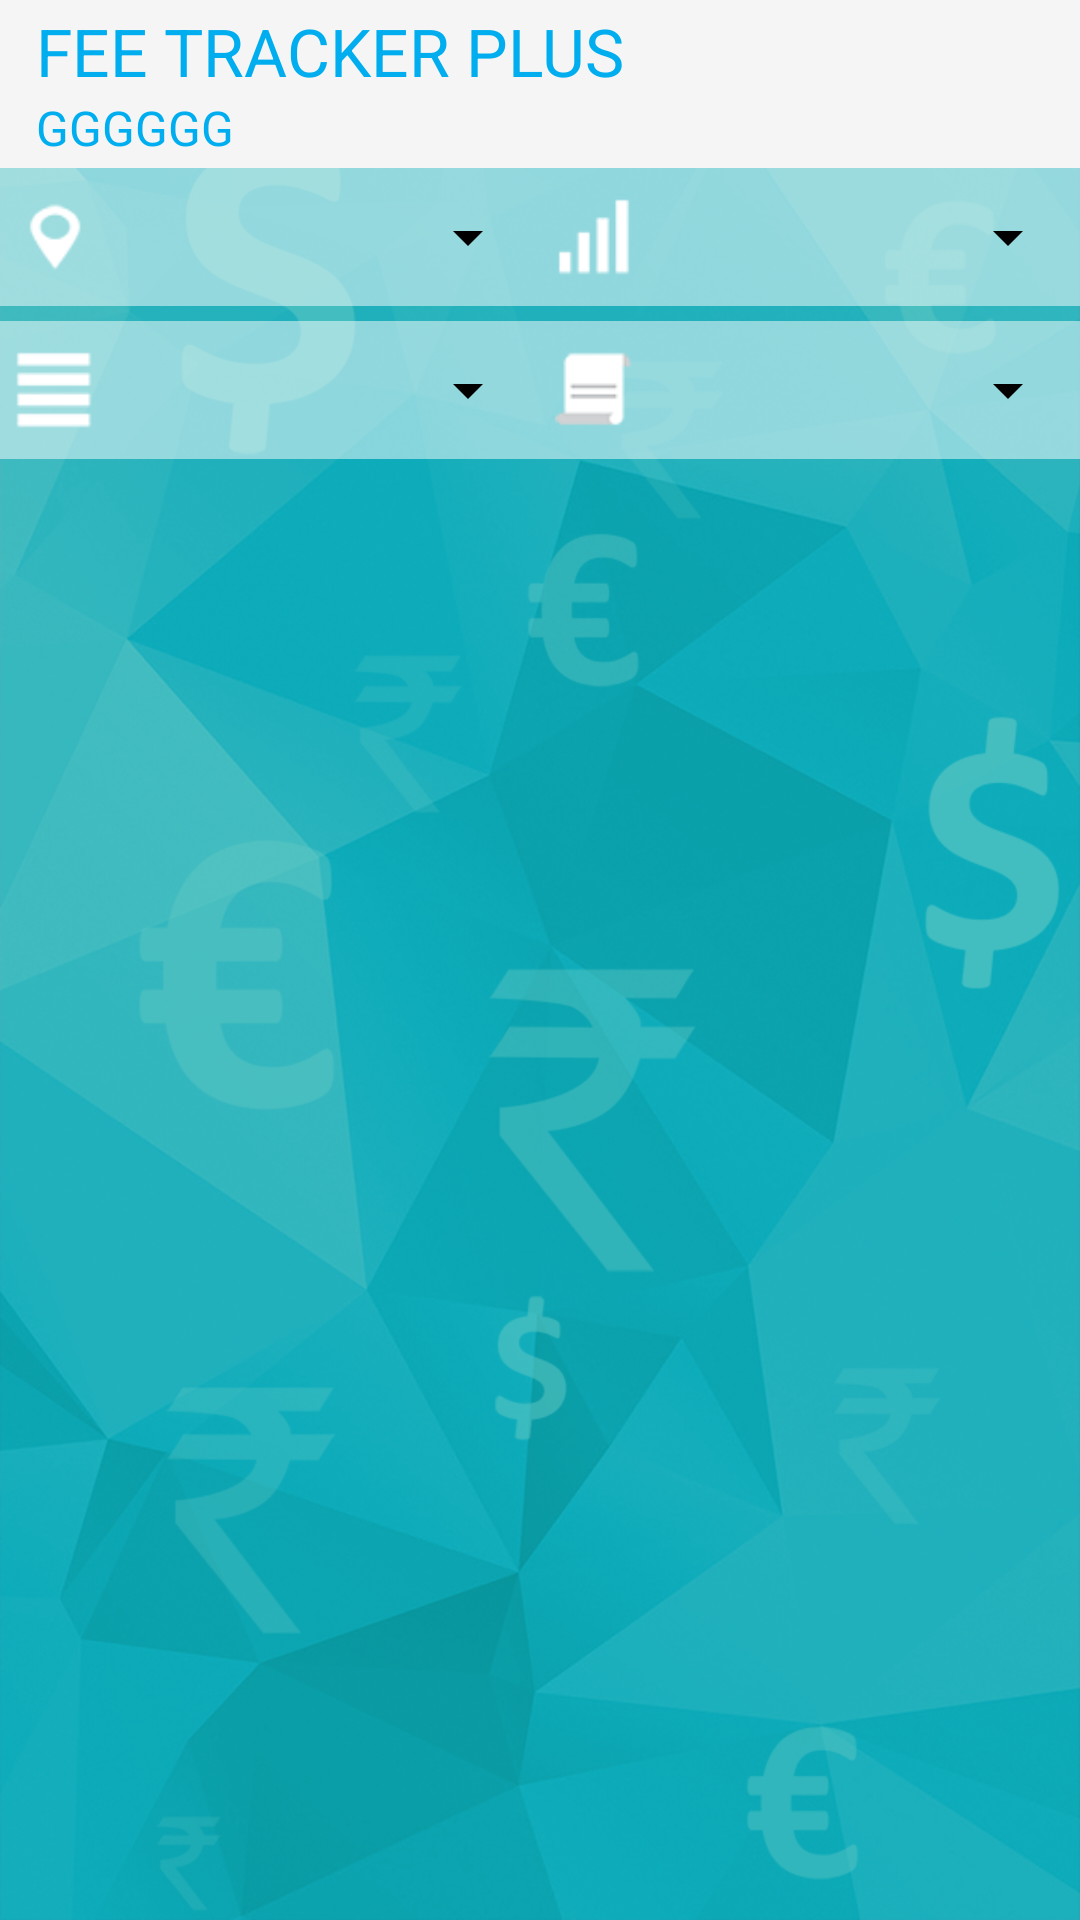

Icons on this 1080×1920 Android screen, each with its box as bbox(x1, y1, x2, y2):
branchloca: bbox(30, 205, 80, 269)
subjectstile: bbox(555, 353, 631, 425)
